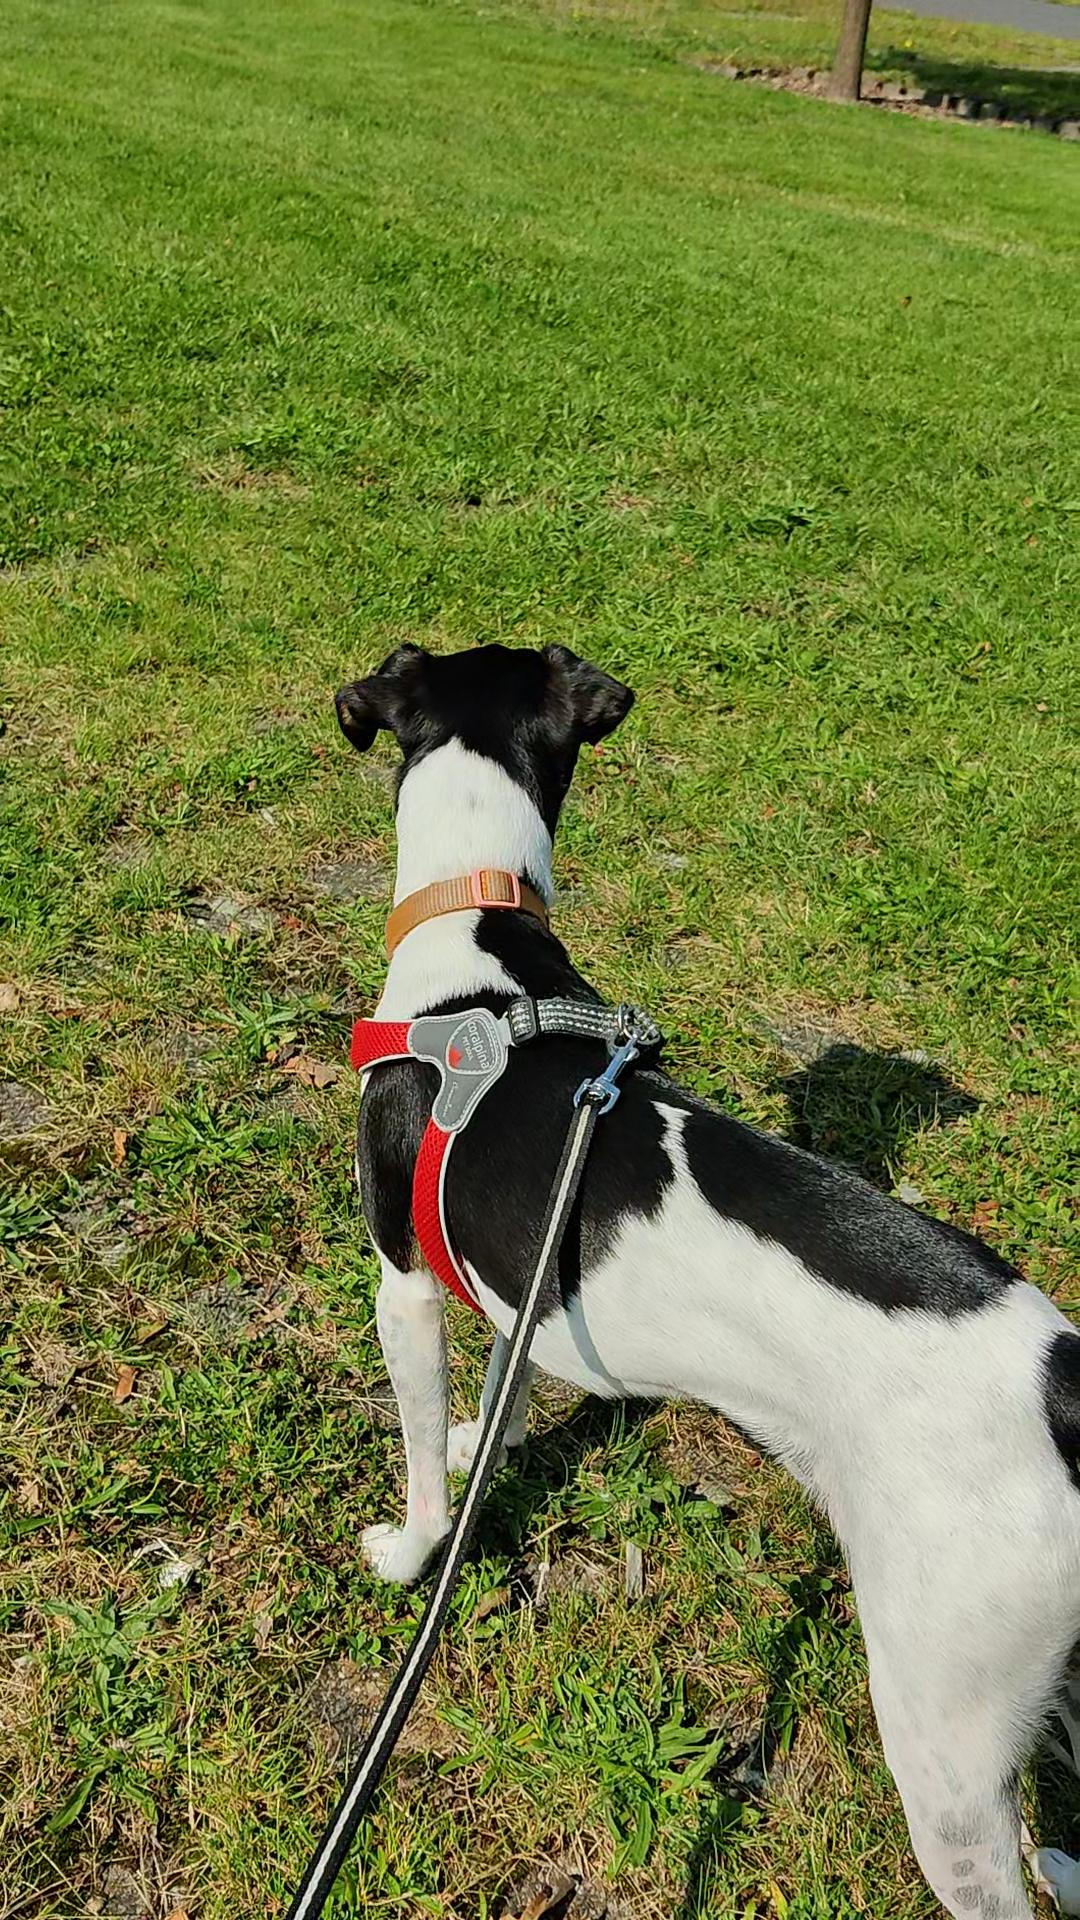Dog: (330, 640, 1079, 1919)
